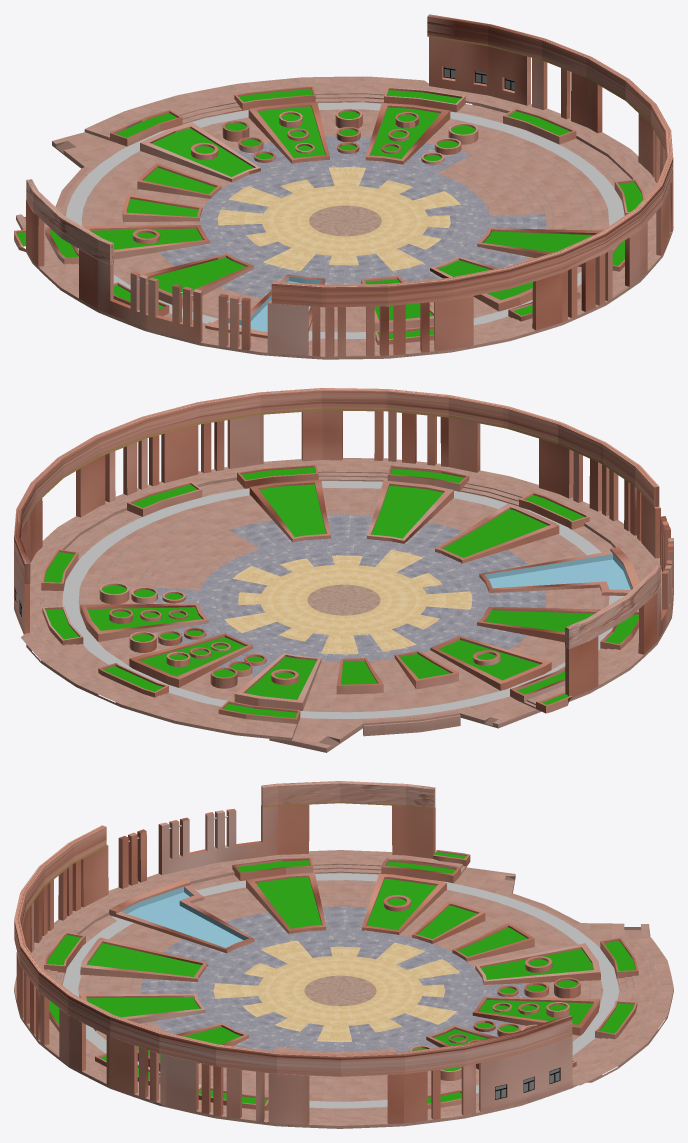
The picture shows the model from 3 angles, top to bottom: view 1: azimuth 30°, elevation 25°; view 2: azimuth 150°, elevation 25°; view 3: azimuth 270°, elevation 25°; orthographic projection.
Visible parts, largest first — view 1: cp0, cp1, cp3; view 2: cp0, cp1, cp3; view 3: cp0, cp1, cp3.
Part boxes in pixels (x1,y1,x2,y2): cp0: (14, 37, 673, 359); cp1: (271, 14, 673, 307); cp3: (26, 179, 113, 264); cp0: (14, 410, 673, 752); cp1: (14, 388, 659, 583); cp3: (565, 565, 660, 648); cp0: (14, 804, 673, 1128); cp1: (14, 825, 572, 1076); cp3: (261, 781, 435, 809).
Bounding box in the file's own units: 6498 × 916 × 6567.
